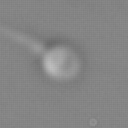normal: (1, 20, 43, 53)
